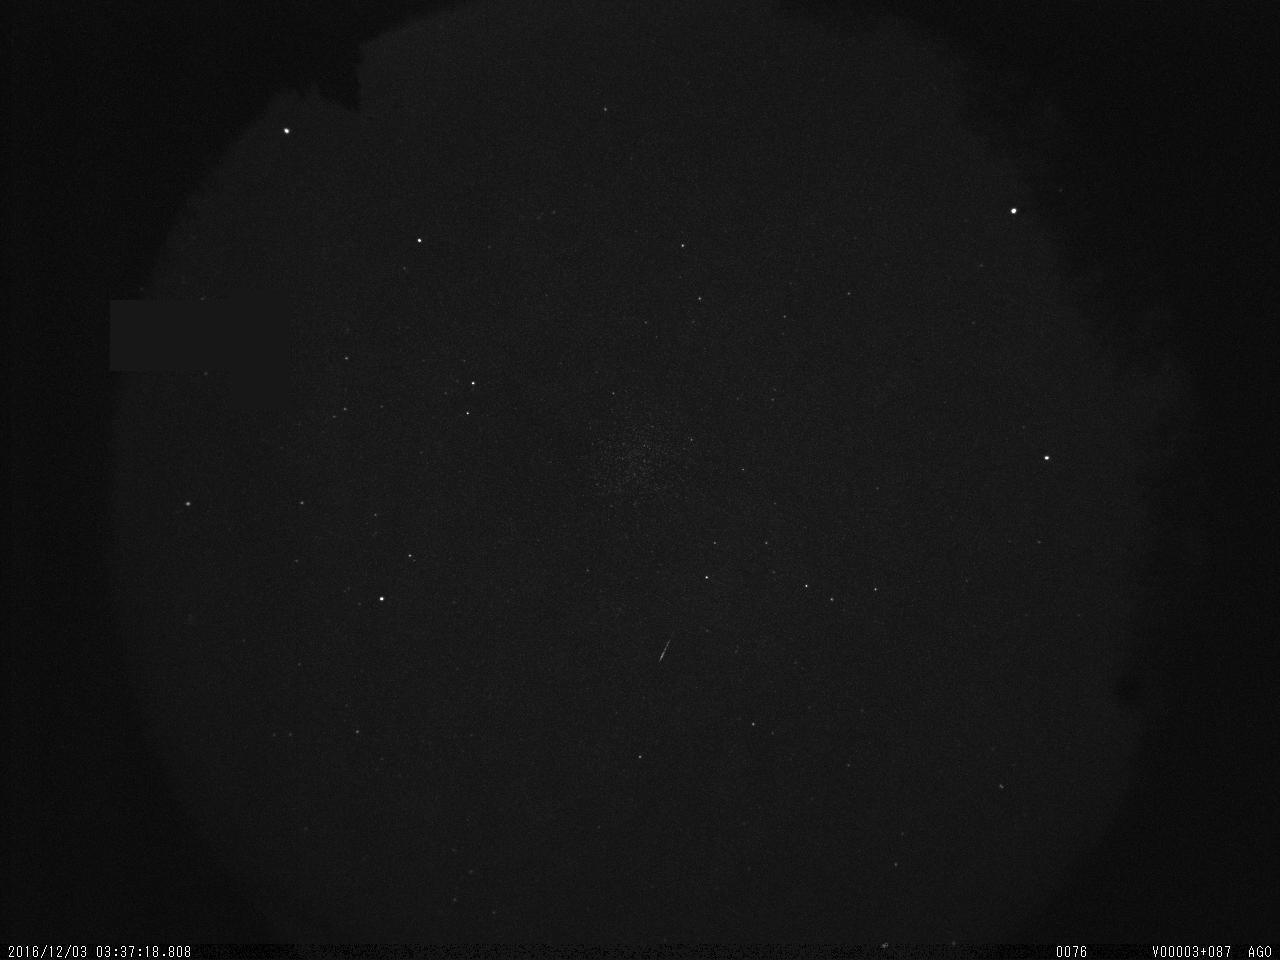Meteor: (656, 636, 672, 663)
